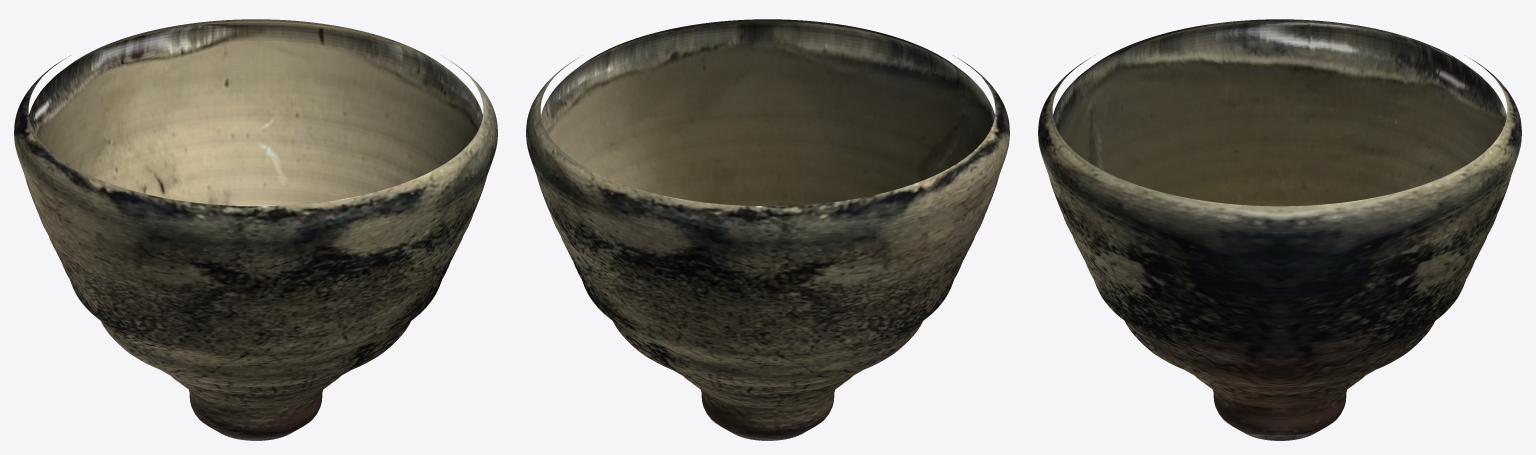
File: joio-cup.glb
3 views of the same model, side by side, from view 1: azimuth 30°, elevation 25°; view 2: azimuth 150°, elevation 25°; view 3: azimuth 270°, elevation 25° (orthographic).
Visible parts, largest first — view 1: joio cup; view 2: joio cup; view 3: joio cup.
Boxes of the visible parts, x1,y1,x2,y2 form: joio cup: [14, 19, 497, 440]; joio cup: [526, 19, 1009, 440]; joio cup: [1038, 19, 1521, 440].
Bounding box in the file's own units: 0.0798 × 0.0569 × 0.0798.
1 material, 1 textured.
